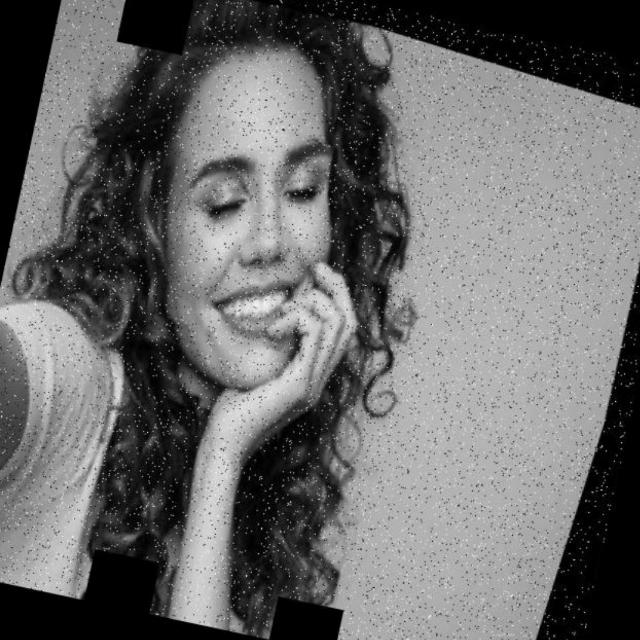Surprised: (165, 48, 330, 397)
